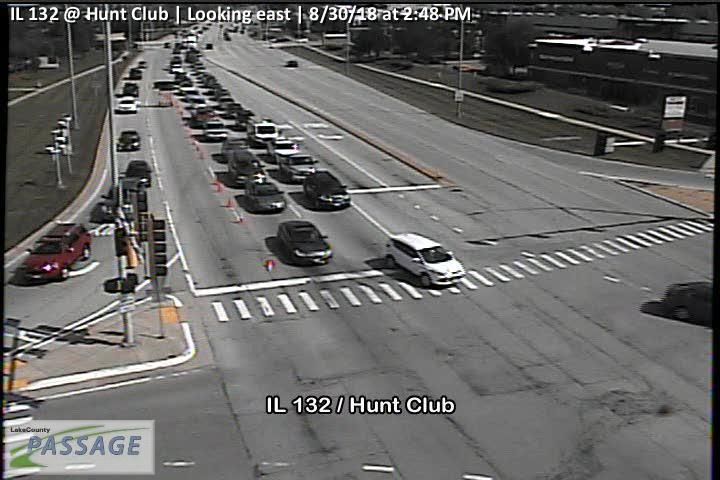SUV: (386, 231, 465, 287), (20, 222, 91, 281), (277, 219, 331, 265), (304, 169, 351, 209), (227, 149, 266, 187), (244, 180, 287, 213), (247, 119, 282, 149), (125, 161, 151, 188), (117, 130, 140, 152), (122, 82, 138, 97), (128, 67, 141, 78)
Sedan: (279, 152, 319, 180), (266, 137, 302, 161), (203, 119, 229, 142), (113, 95, 137, 113)
